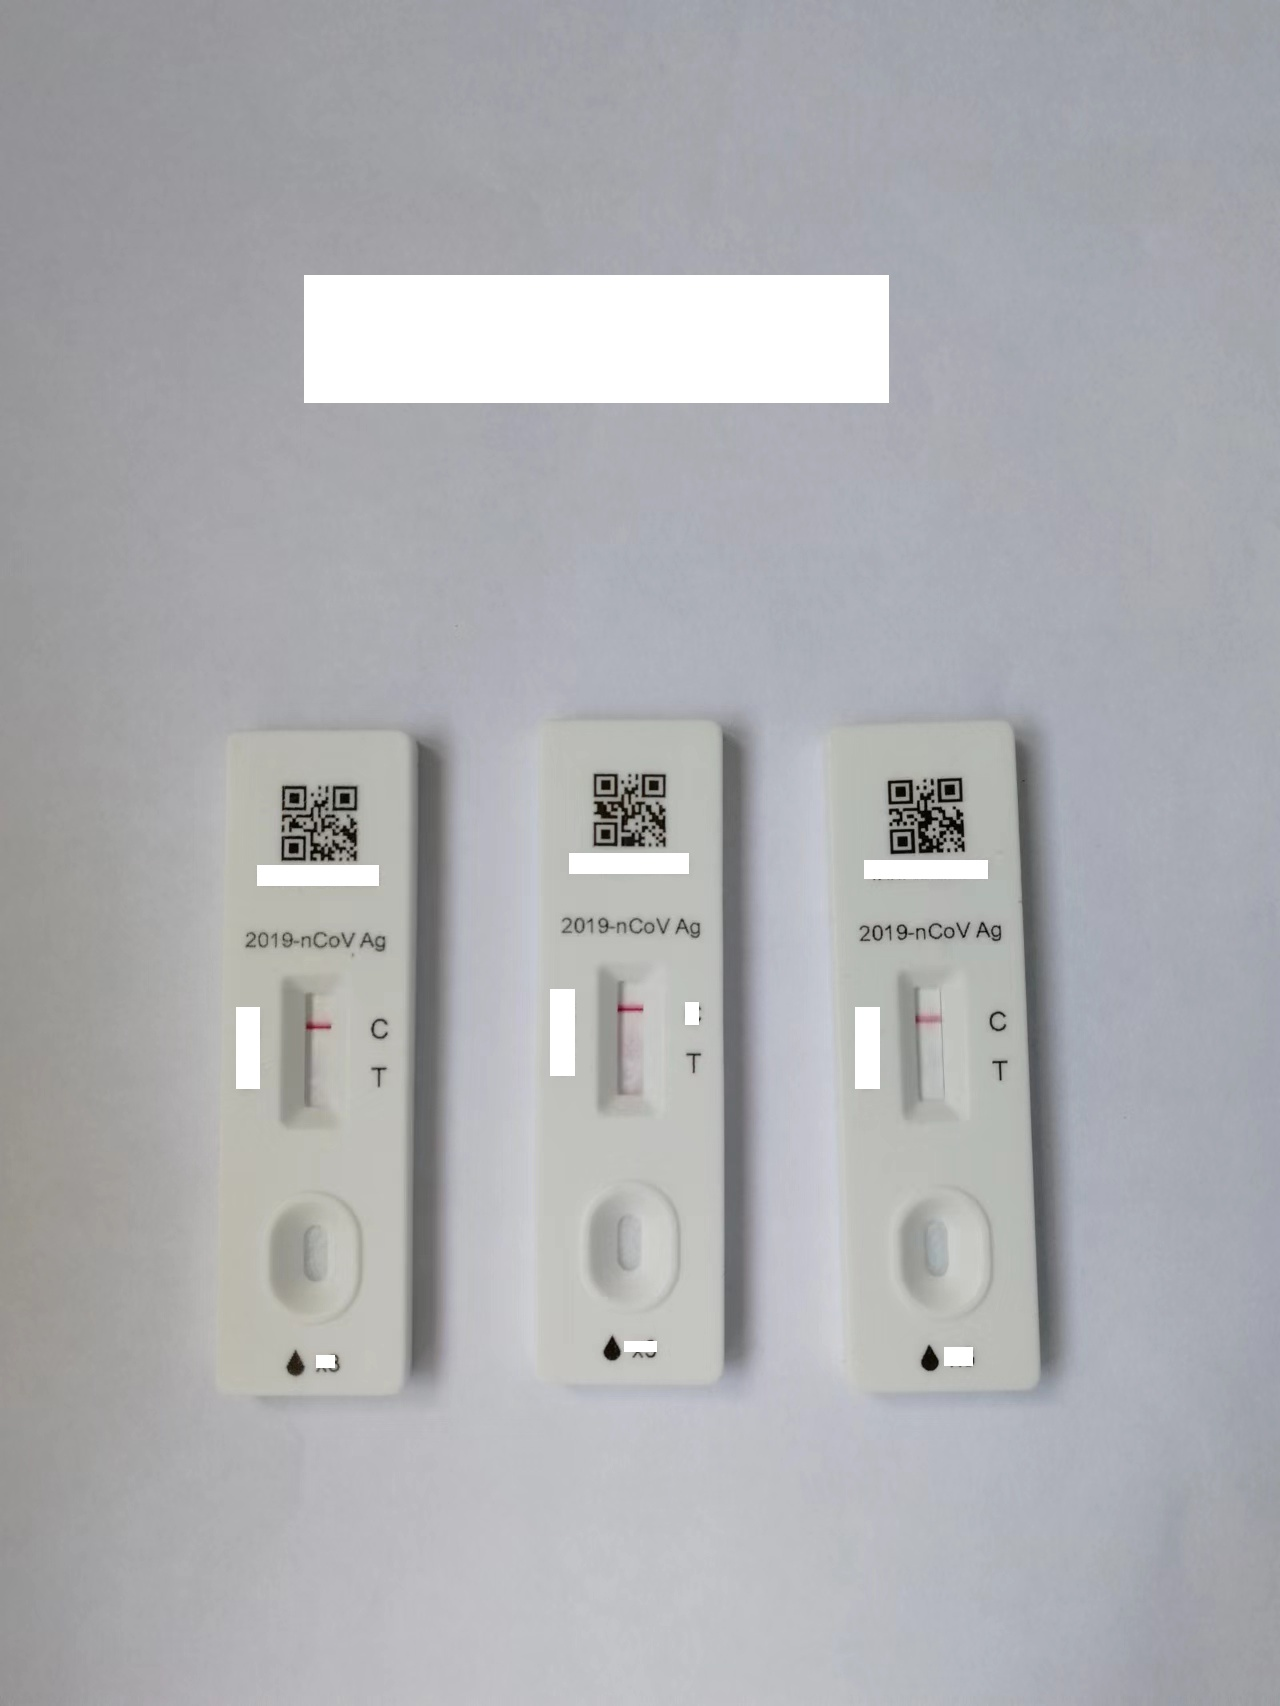negative: (280, 975, 342, 1135), (901, 968, 964, 1124), (602, 968, 653, 1117)
